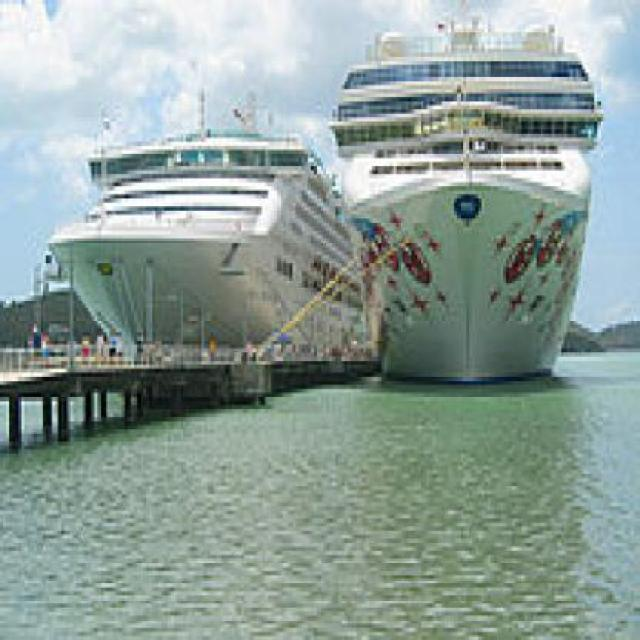cruise: (321, 13, 616, 394), (37, 78, 388, 370)
